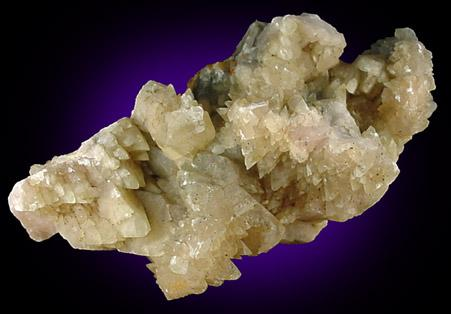calcite: (8, 13, 438, 300)
